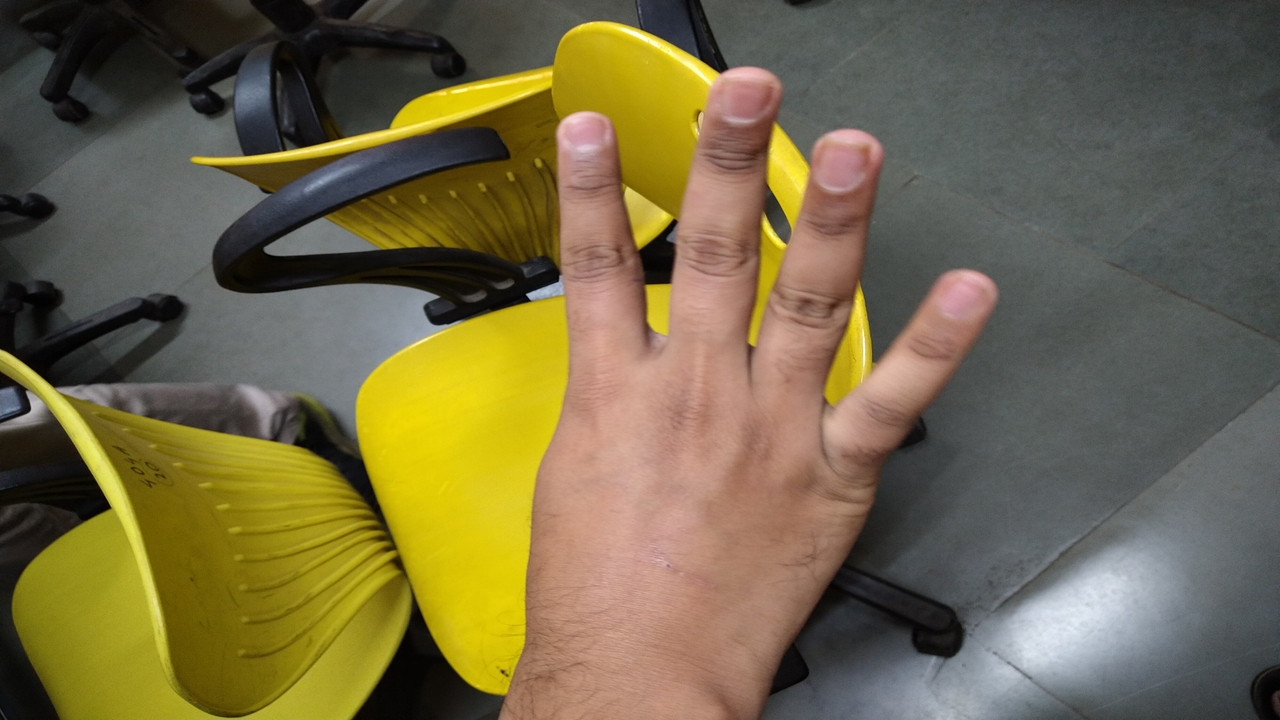fingertip: (702, 56, 786, 138), (928, 258, 1012, 326), (810, 122, 890, 190), (554, 106, 618, 172)
